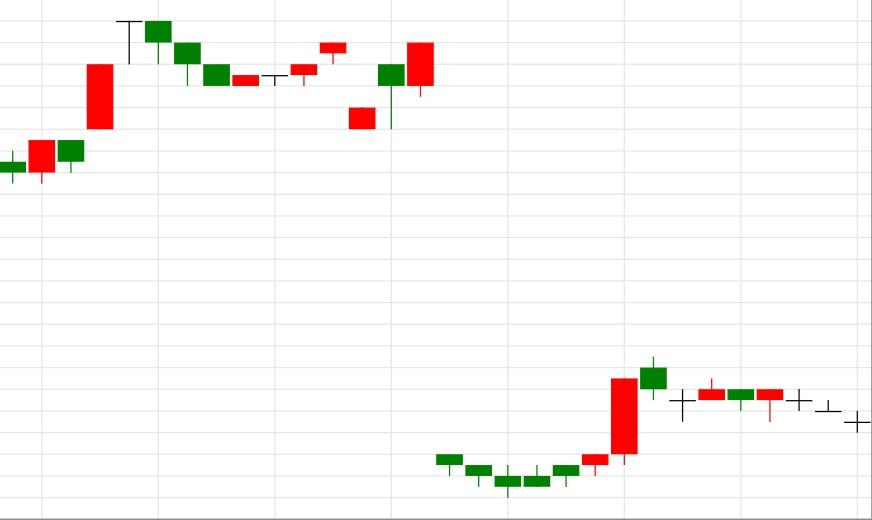three_black_crows_fall: (0, 19, 231, 183)
